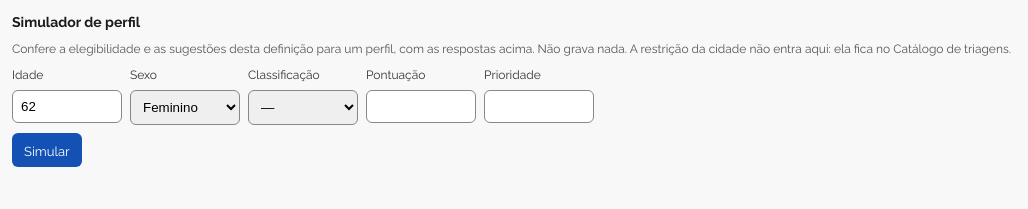
Test case: OfferSimulator › falha de rede vira mensagem
The width and height of the screenshot is (1028, 209).
Click the button "Simular".
click(47, 150)  # box [12, 133, 82, 167]
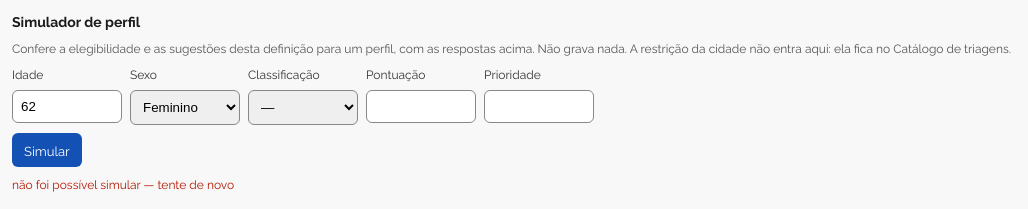
Now the text "não foi possível simular — tente de novo" is shown, box [12, 175, 234, 192]
